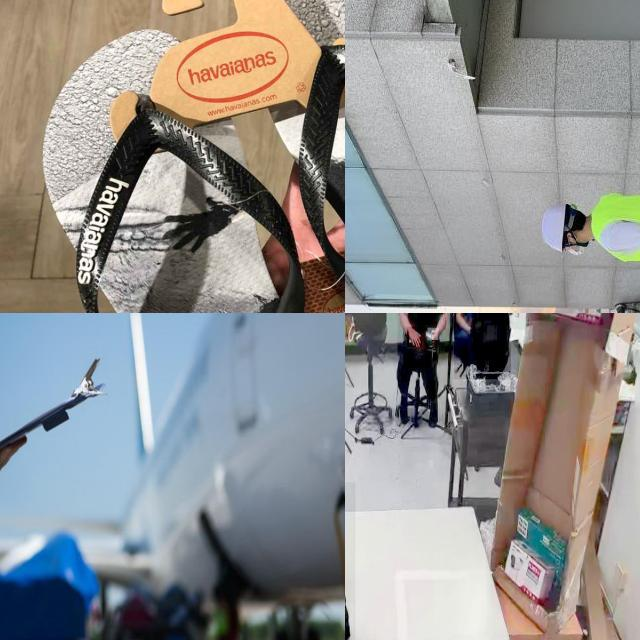Sandals: (27, 0, 345, 313)
hand_noglove: (407, 327, 423, 348), (427, 328, 439, 341)
head_helmet: (541, 199, 570, 258)
person: (483, 151, 640, 296), (397, 313, 453, 428), (453, 313, 511, 380)
shoes: (423, 394, 441, 434), (398, 390, 412, 428)
vest: (587, 190, 640, 268)
